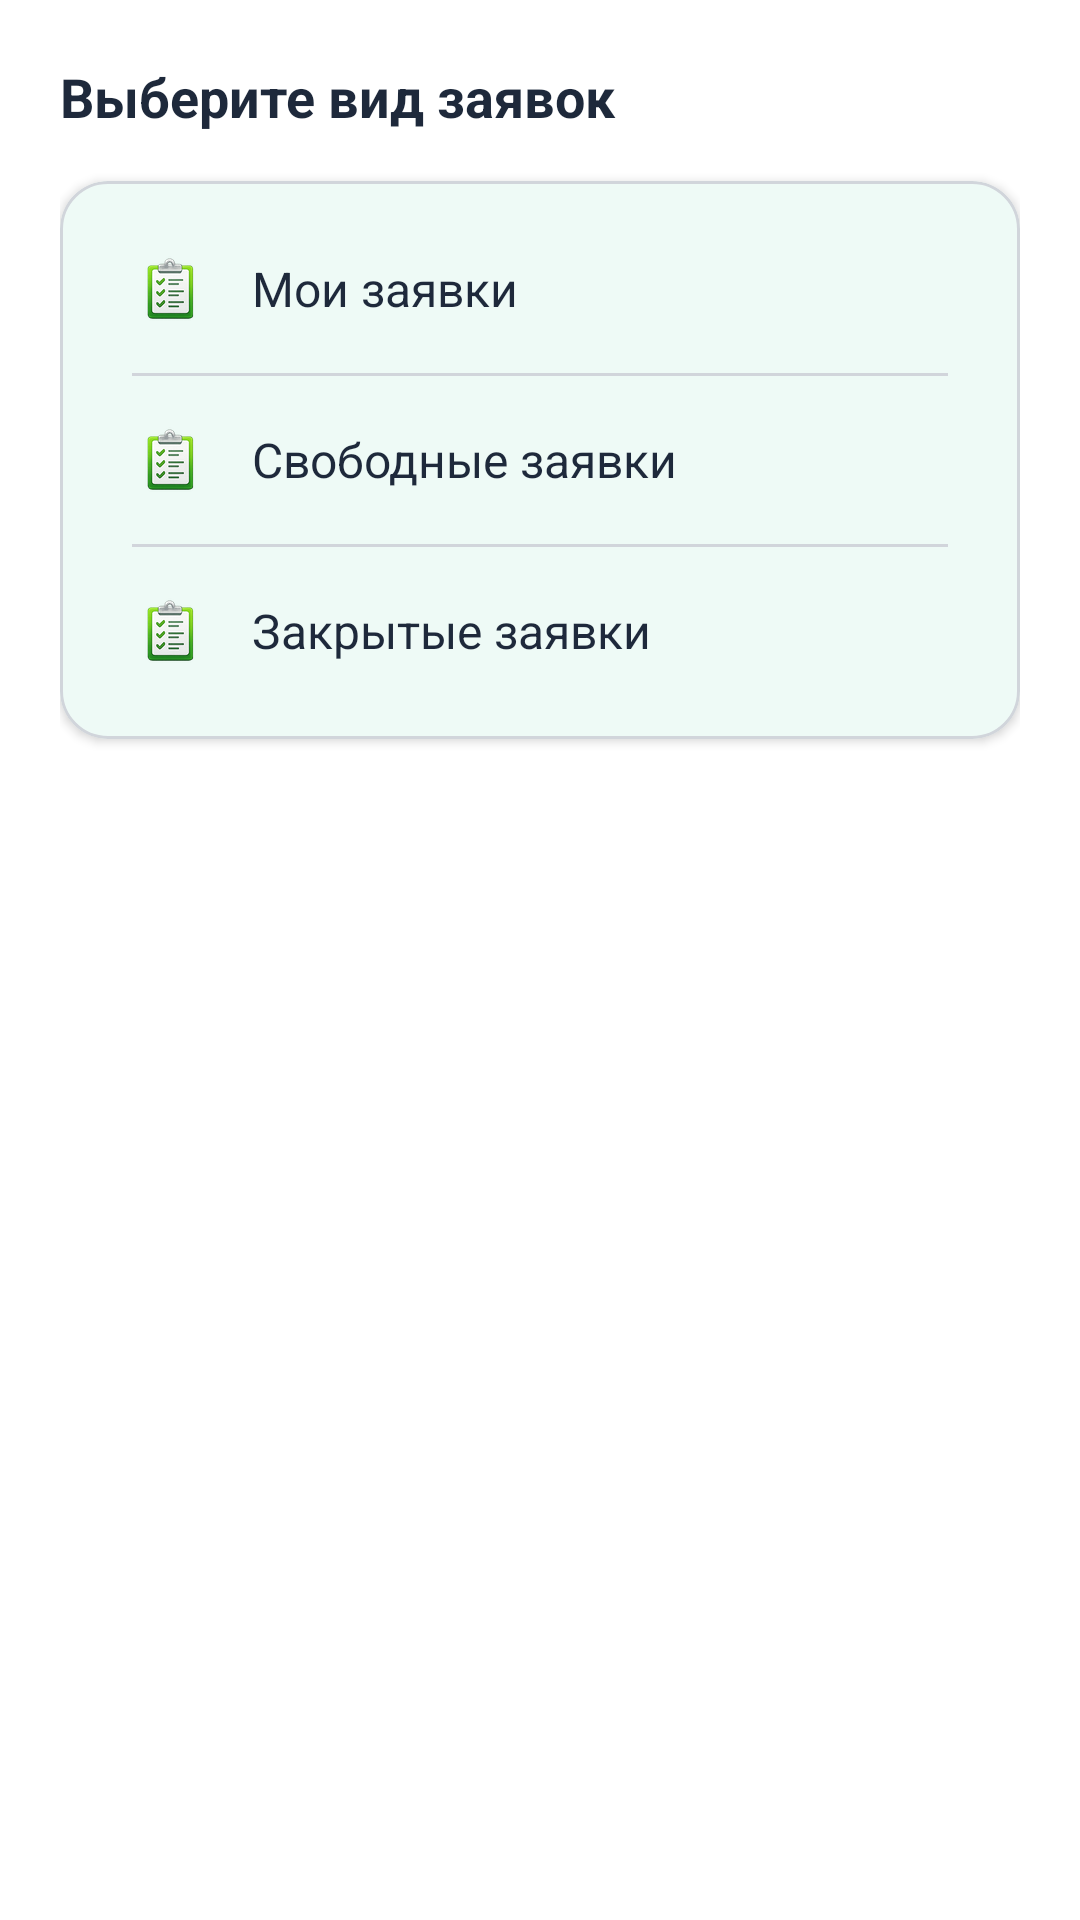

Point at icon controls on the screen. Image size 1080×1920, points as (x=x, y=y).
tasks: (x=170, y=288), (x=170, y=459), (x=170, y=630)
